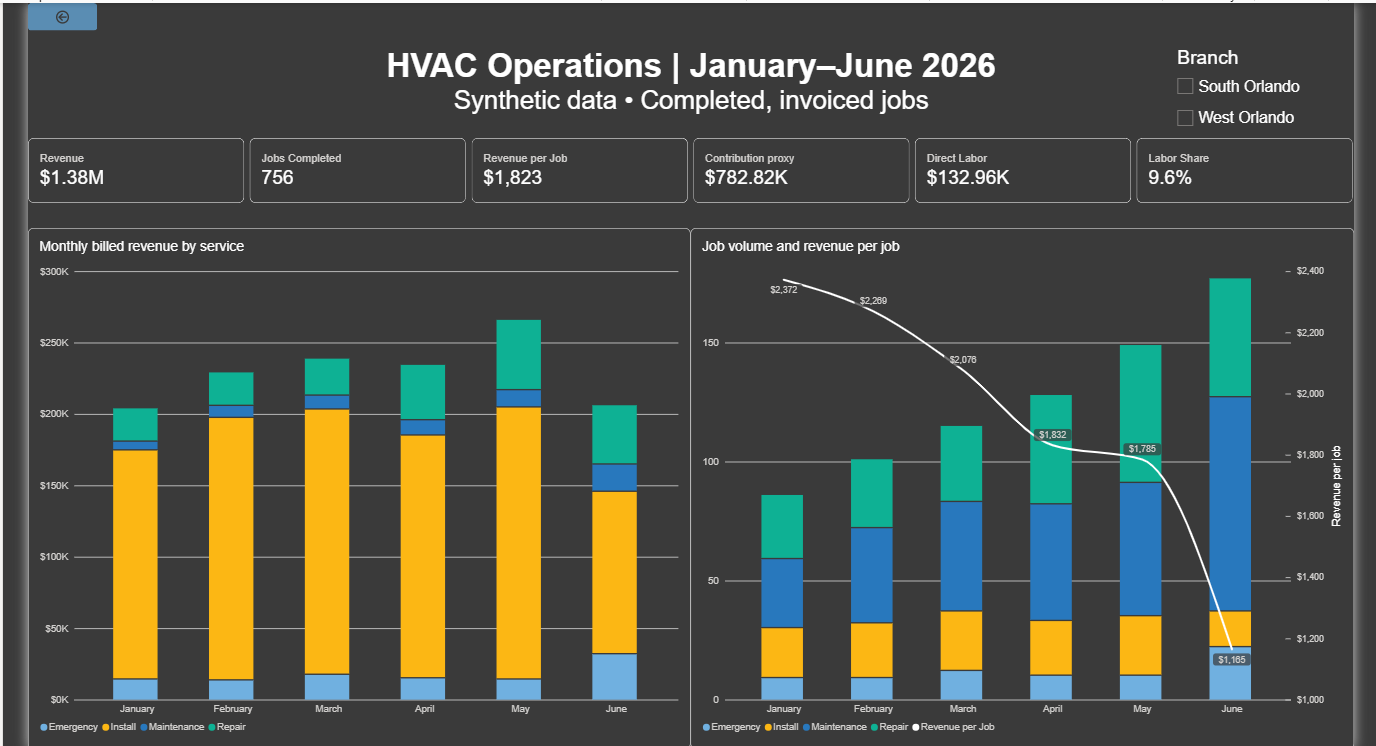

The dashboard page shown, as its layout file describes it:
{"tool":"powerbi","page":{"name":"Operations overview","canvas":[1920,1080],"ordinal":0},"visuals":[{"type":"cardVisual","fields":{"Data":["FactJobs.Revenue","FactJobs.Jobs Completed","FactJobs.Revenue per Job","FactJobs.Contribution","FactJobs.Direct Labor","FactJobs.Labor Share"]},"box":[0,195.4,1920.1,94.1],"z":0},{"type":"columnChart","title":"Monthly billed revenue by service","fields":{"Category":["FactJobs.MonthStart.Variation.Date Hierarchy.Year","FactJobs.MonthStart.Variation.Date Hierarchy.Quarter","FactJobs.MonthStart.Variation.Date Hierarchy.Month","FactJobs.MonthStart.Variation.Date Hierarchy.Day"],"Series":["FactJobs.service_type"],"Y":["FactJobs.Revenue"]},"box":[0,325.7,959.1,754.6],"z":1000},{"type":"lineStackedColumnComboChart","title":"Job volume and revenue per job","fields":{"Category":["FactJobs.MonthStart.Variation.Date Hierarchy.Year","FactJobs.MonthStart.Variation.Date Hierarchy.Quarter","FactJobs.MonthStart.Variation.Date Hierarchy.Month","FactJobs.MonthStart.Variation.Date Hierarchy.Day"],"Series":["FactJobs.service_type"],"Y":["FactJobs.Jobs Completed"],"Y2":["FactJobs.Revenue per Job"]},"box":[959.1,325.7,960.9,754.6],"z":2000},{"type":"actionButton","box":[0,0,100,40],"z":3000},{"type":"textbox","box":[0,63.3,1920.1,119.4],"z":4000},{"type":"slicer","fields":{"Values":["FactJobs.branch"]},"box":[1655.3,63.3,197.4,132.2],"z":5500}]}

Visuals, with their boxes on the page's 1920x1080 design canvas (x1, y1, x2, y2). These are canvas units, not pixel positions in the 1376x746 screenshot, which may show the page scaled, cropped or inside an application window:
cardVisual - FactJobs.Revenue x FactJobs.Jobs Completed: [0, 195, 1920, 290]
"Monthly billed revenue by service" columnChart: [0, 326, 959, 1080]
"Job volume and revenue per job" lineStackedColumnComboChart: [959, 326, 1920, 1080]
actionButton: [0, 0, 100, 40]
textbox: [0, 63, 1920, 183]
slicer - FactJobs.branch: [1655, 63, 1853, 196]
